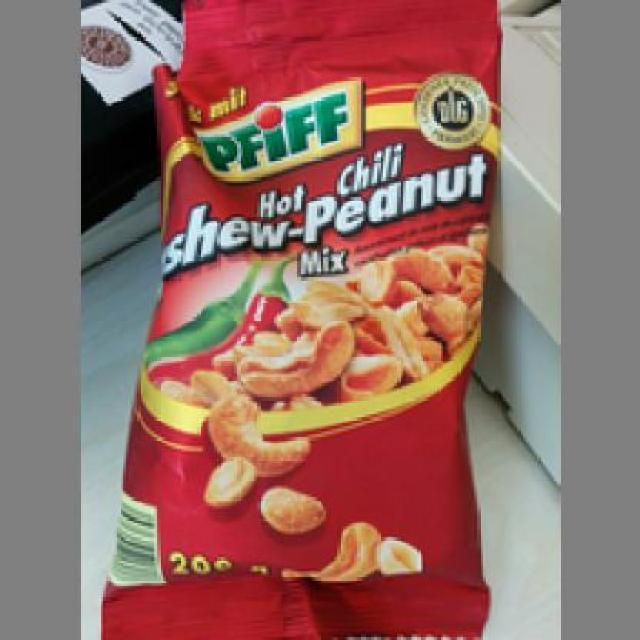Nuts: (94, 0, 503, 637)
